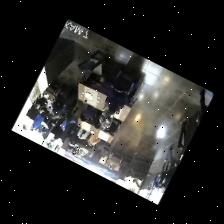person: (163, 147, 179, 191), (105, 88, 127, 115), (51, 119, 76, 141), (155, 159, 169, 190), (49, 93, 65, 116), (198, 88, 207, 125), (31, 112, 48, 130), (99, 112, 113, 129), (88, 133, 101, 145), (36, 97, 47, 108), (69, 139, 76, 148), (72, 146, 79, 154)
